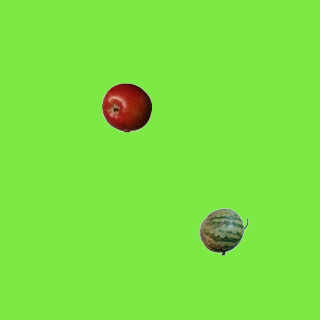Apple Braeburn: (101, 82, 151, 132)
Watermelon: (198, 206, 248, 256)
